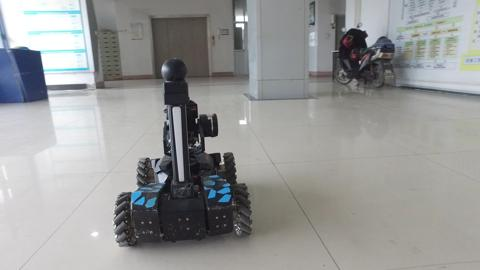chariot: (93, 56, 267, 259)
